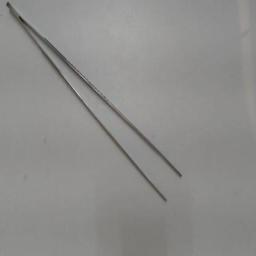DeBakey Dissector: (4, 1, 194, 217)
